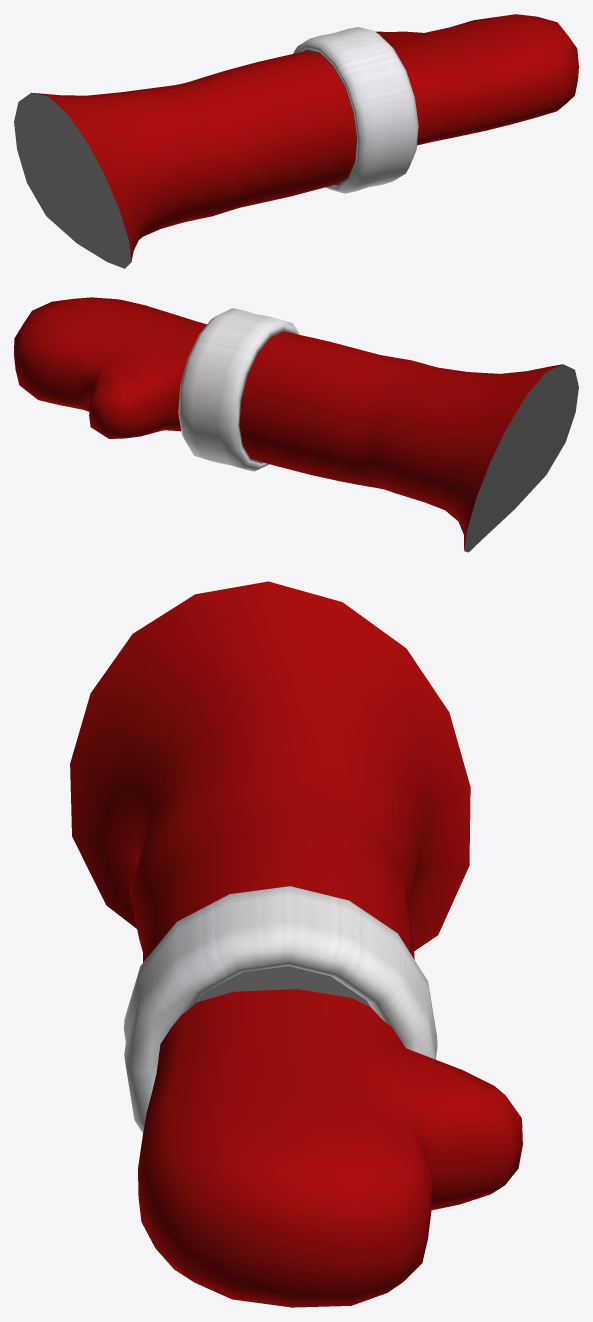
File: rightArmSanta.obj
3 views of the same model, one above another, from view 1: azimuth 30°, elevation 25°; view 2: azimuth 150°, elevation 25°; view 3: azimuth 270°, elevation 25° (orthographic). The views are drawn at different scales.
Parts seen in each view (by area): view 1: polySurface5; view 2: polySurface5; view 3: polySurface5.
Part boxes in pixels (x1,y1,x2,y2): polySurface5: (14, 14, 578, 268); polySurface5: (14, 297, 578, 552); polySurface5: (70, 581, 522, 1307).
Size of the model in its own units: 4.55 by 1.5 by 1.73.
3 materials, 2 textured.
